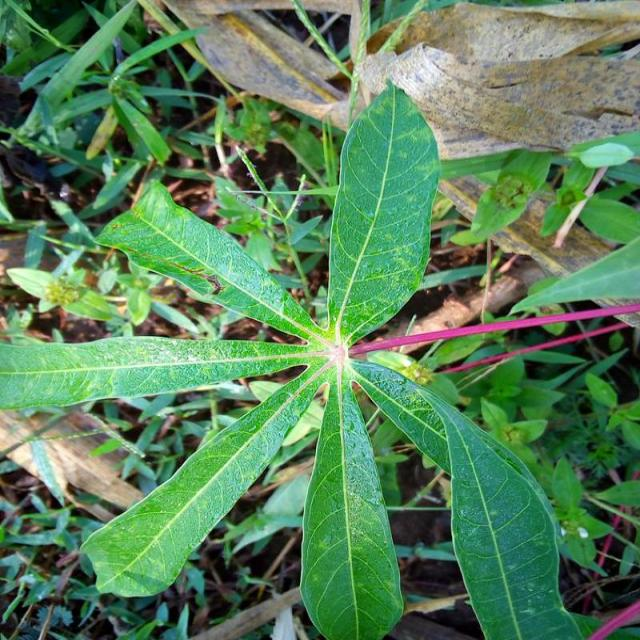cassava leaf: (5, 74, 614, 636), (346, 353, 598, 638), (326, 76, 440, 347), (298, 364, 404, 638)
